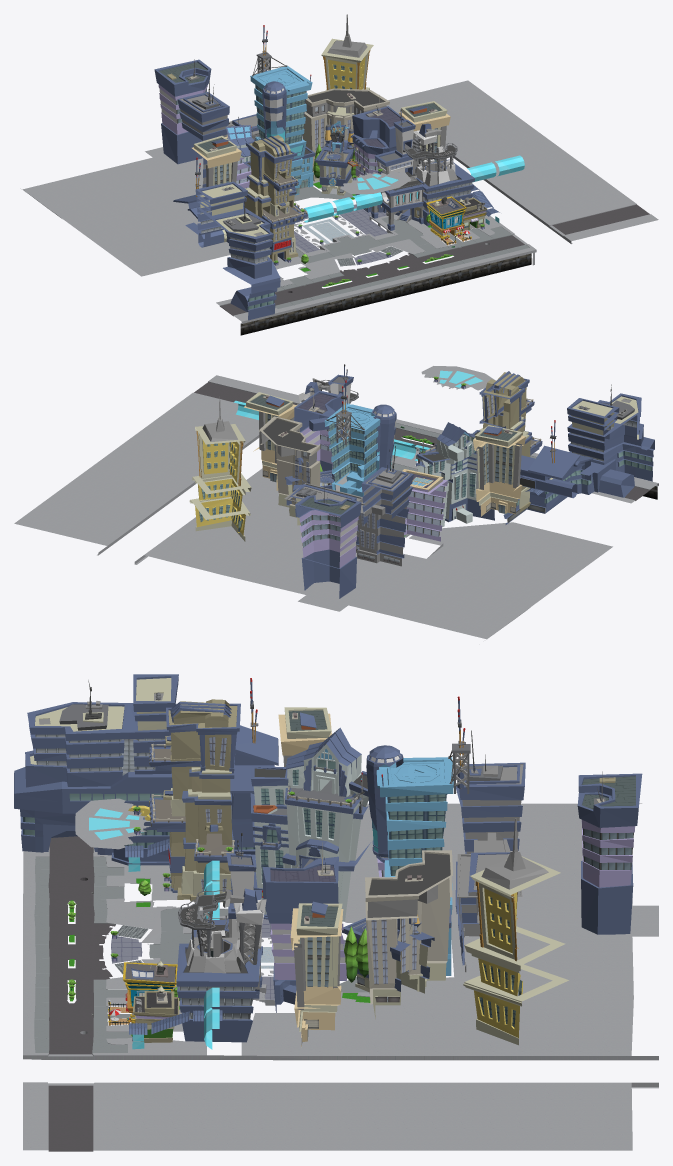
Rendered from Plaza_2.fbx.
3 renders of one model, top to bottom at view 1: azimuth 30°, elevation 25°; view 2: azimuth 150°, elevation 25°; view 3: azimuth 270°, elevation 25°, orthographic. The views are drawn at different scales.
Visible parts, largest first — view 1: Plaza_Tex6, Plaza_Tex9, Plaza_Tex8, Plaza_Tex22, Plaza_Tex10, Plaza_Tex4, Plaza_Tex17, Plaza_Tex21, Plaza_Tex2, Plaza_Tex14, Plaza_Tex5, Plaza_Tex11 (+1 smaller); view 2: Plaza_Tex6, Plaza_Tex8, Plaza_Tex9, Plaza_Tex22, Plaza_Tex10, Plaza_Tex4, Plaza_Tex2, Plaza_Tex17; view 3: Plaza_Tex6, Plaza_Tex9, Plaza_Tex8, Plaza_Tex22, Plaza_Tex4, Plaza_Tex17, Plaza_Tex10, Plaza_Tex2, Plaza_Tex14, Plaza_Tex11, Plaza_Tex3, Plaza_Tex1 (+1 smaller).
Part boxes in pixels (x1,y1,x2,y2): Plaza_Tex6: (22, 80, 658, 323); Plaza_Tex9: (177, 81, 474, 278); Plaza_Tex8: (173, 14, 373, 320); Plaza_Tex22: (154, 59, 450, 186); Plaza_Tex10: (225, 95, 405, 212); Plaza_Tex4: (220, 204, 649, 315); Plaza_Tex17: (220, 186, 529, 308); Plaza_Tex21: (240, 253, 531, 335); Plaza_Tex2: (266, 131, 524, 224); Plaza_Tex14: (426, 196, 471, 245); Plaza_Tex5: (294, 204, 392, 265); Plaza_Tex11: (458, 197, 487, 231); Plaza_Tex6: (14, 366, 658, 639); Plaza_Tex8: (189, 380, 654, 541); Plaza_Tex9: (259, 364, 643, 566); Plaza_Tex22: (244, 392, 525, 598); Plaza_Tex10: (285, 389, 447, 541); Plaza_Tex4: (194, 382, 650, 500); Plaza_Tex2: (233, 370, 482, 468); Plaza_Tex17: (391, 423, 536, 537); Plaza_Tex6: (23, 798, 658, 1150); Plaza_Tex9: (25, 674, 525, 1042); Plaza_Tex8: (14, 678, 568, 1045); Plaza_Tex22: (278, 707, 642, 1046); Plaza_Tex4: (48, 836, 115, 1151); Plaza_Tex17: (34, 857, 368, 1052); Plaza_Tex10: (262, 842, 434, 1012); Plaza_Tex2: (89, 808, 378, 1049); Plaza_Tex14: (108, 961, 177, 1025); Plaza_Tex11: (133, 986, 179, 1042); Plaza_Tex3: (125, 793, 355, 1034); Plaza_Tex1: (138, 880, 368, 1000).
Bounding box in the file's own units: 479 × 177 × 376.
Materials: 24 (24 with a texture image).
